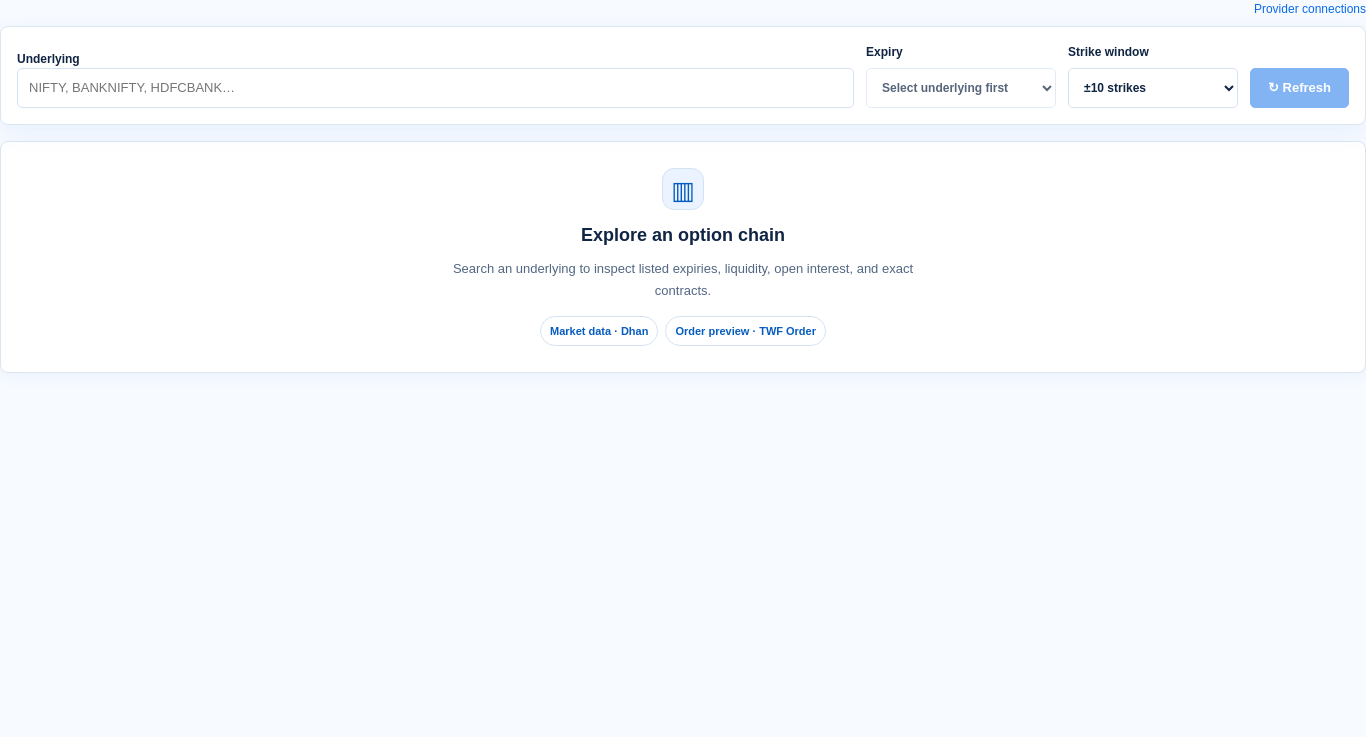
Test case: no spot keeps rows and does not invent ATM
Focus the dropdown labelled "Underlying". click: (436, 88)
box: [17,68,854,108]
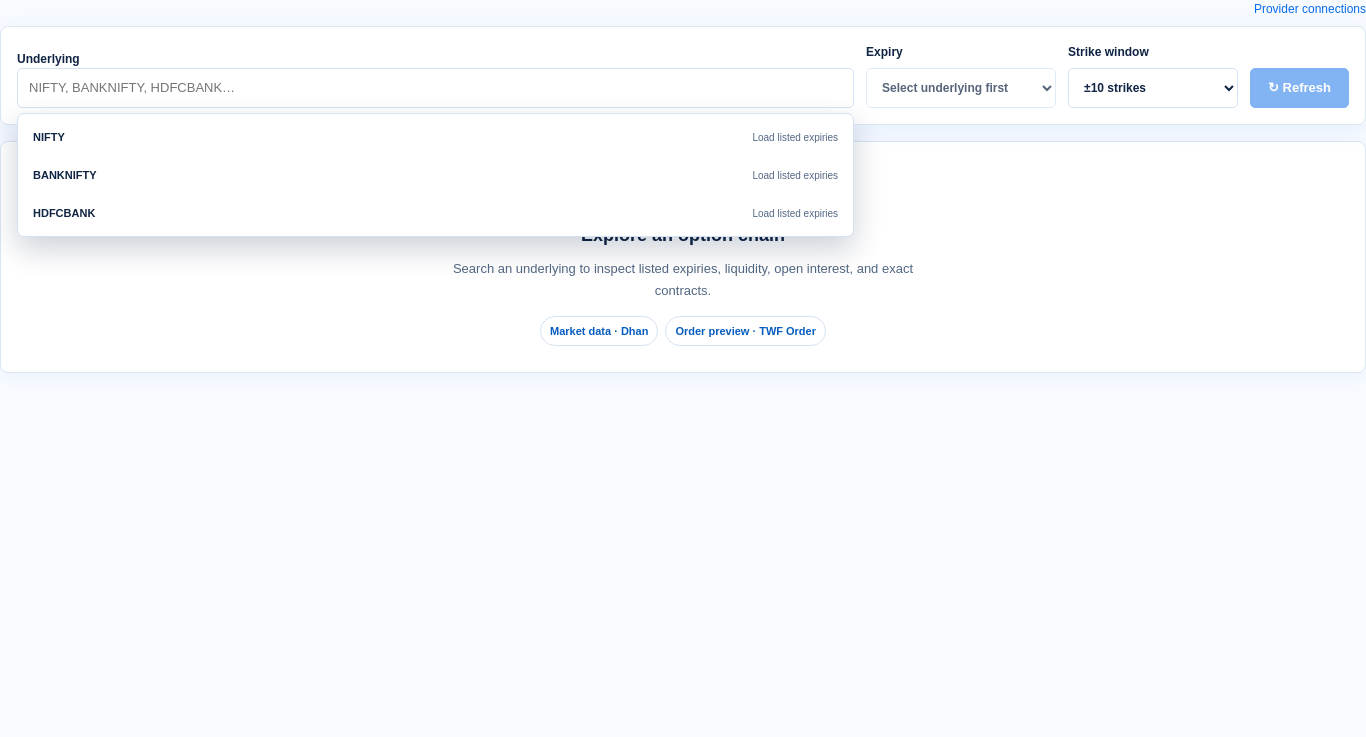
Click the button "NIFTY Load listed expiries". click: (49, 137)
box: [23,119,848,155]
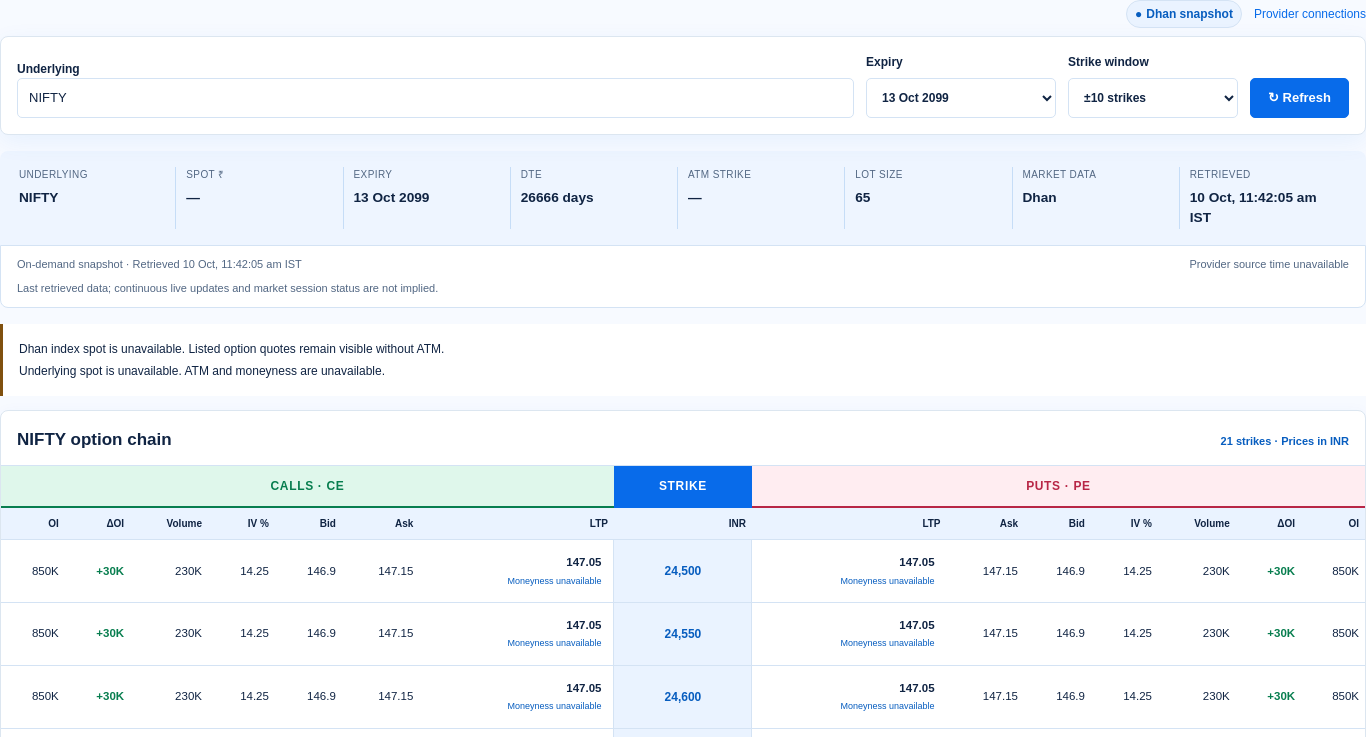
Now the text "Underlying spot is unavailable" is shown, box [19,364,385,378]
Now the text "Dhan index spot is unavailable" is shown, box [19,342,444,356]
